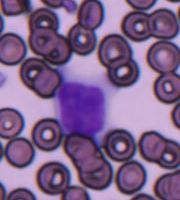L: (53, 77, 114, 136)
